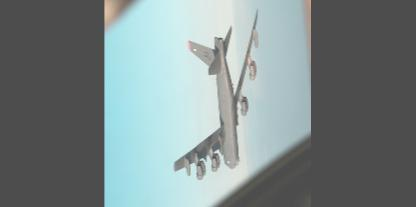B2: (172, 7, 258, 180)
